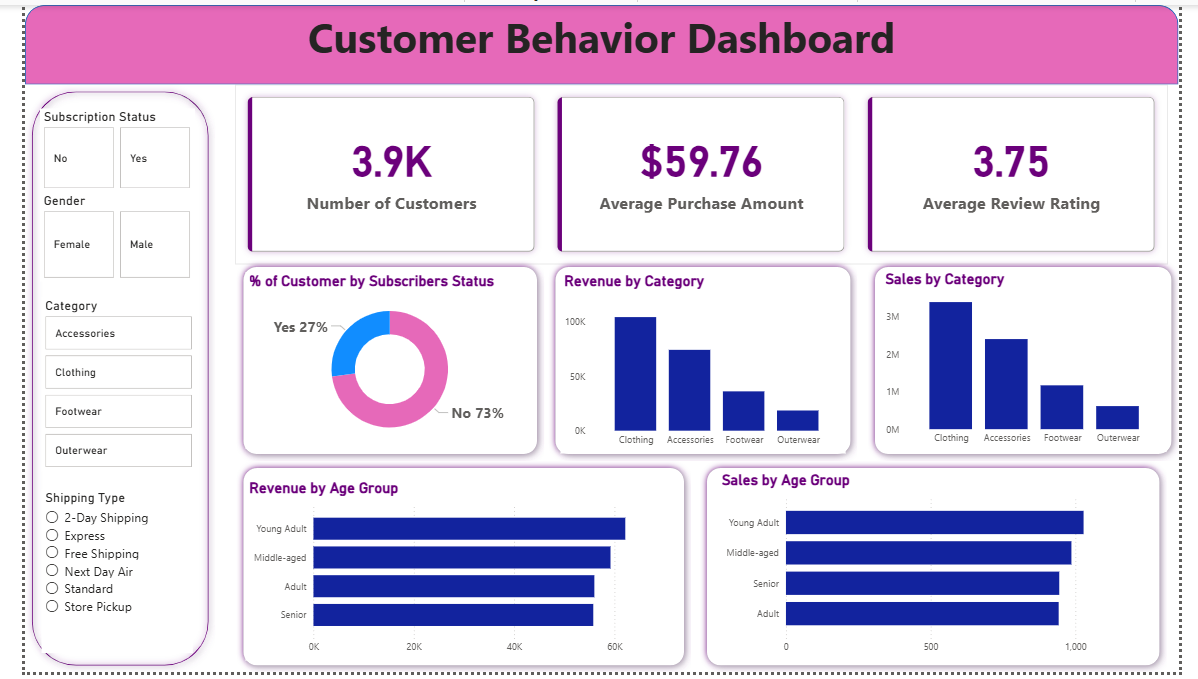

The page's visual inventory and layout, read from the dashboard file:
{"tool":"powerbi","page":{"name":"Page 1","canvas":[1500,867],"ordinal":0},"visuals":[{"type":"cardVisual","fields":{"Data":["public customer.Number of Customers","public customer.Average Purchase Amount","public customer.Average Review Rating"]},"box":[273,103.3,1212.8,234],"z":0},{"type":"shape","box":[0,0,1499.3,103.3],"z":1000},{"type":"textbox","box":[0,0,1499.3,103.3],"z":2000},{"type":"shape","box":[274.9,331.5,399.7,261.3],"z":3000},{"type":"shape","box":[680.5,331.5,401.7,261.3],"z":4000},{"type":"shape","box":[1095.8,331.5,403.6,261.3],"z":5000},{"type":"clusteredColumnChart","title":"Revenue by Category","fields":{"Y":["Sum(public customer.purchase_amount)"],"Category":["public customer.category"]},"box":[696.1,347.1,370.5,235.9],"z":6000},{"type":"clusteredColumnChart","title":"Sales by Category","fields":{"Y":["Sum(public customer.customer_id)"],"Category":["public customer.category"]},"box":[1113.3,345.1,370.5,235.9],"z":7000},{"type":"shape","box":[0,103.3,247.6,764.3],"z":8000},{"type":"advancedSlicerVisual","title":"Subscription Status","fields":{"Values":["public customer.subscription_status"]},"box":[20.3,134.6,201,108.8],"z":9000},{"type":"advancedSlicerVisual","title":"Gender","fields":{"Values":["public customer.gender"]},"box":[20.3,243.4,201,116.2],"z":10000},{"type":"advancedSlicerVisual","title":"Category","fields":{"Values":["public customer.category"]},"box":[21.4,380.2,200.8,226.2],"z":11000},{"type":"listSlicer","title":"Shipping Type","fields":{"Values":["public customer.shipping_type"]},"box":[21.4,629.8,196.9,212.5],"z":12000},{"type":"donutChart","title":"% of Customer by Subscribers Status","fields":{"Category":["public customer.subscription_status"],"Y":["CountNonNull(public customer.customer_id)"]},"box":[286.6,347.1,374.4,230.1],"z":13000},{"type":"shape","box":[877.4,592.7,606.4,274.9],"z":14000},{"type":"clusteredBarChart","title":"Sales by Age Group","fields":{"Y":["CountNonNull(public customer.customer_id)"],"Category":["public customer.age_group"]},"box":[900.8,606.4,559.6,245.7],"z":15000},{"type":"shape","box":[274.9,592.7,590.8,274.9],"z":16000},{"type":"clusteredBarChart","title":"Revenue by Age Group","fields":{"Y":["Sum(public customer.purchase_amount)"],"Category":["public customer.age_group"]},"box":[286.6,616.1,559.6,235.9],"z":17000}]}

Visuals, with their boxes in screenshot pixels (x1, y1, x2, y2), scaled from the page's 1500x867 canvas onto the 1198x679 screenshot:
cardVisual - public customer.Number of Customers x public customer.Average Purchase Amount: bbox=[218, 81, 1187, 264]
shape: bbox=[0, 0, 1197, 81]
textbox: bbox=[0, 0, 1197, 81]
shape: bbox=[220, 260, 539, 464]
shape: bbox=[543, 260, 864, 464]
shape: bbox=[875, 260, 1197, 464]
"Revenue by Category" clusteredColumnChart: bbox=[556, 272, 852, 457]
"Sales by Category" clusteredColumnChart: bbox=[889, 270, 1185, 455]
shape: bbox=[0, 81, 198, 678]
"Subscription Status" advancedSlicerVisual: bbox=[16, 105, 177, 191]
"Gender" advancedSlicerVisual: bbox=[16, 191, 177, 282]
"Category" advancedSlicerVisual: bbox=[17, 298, 177, 475]
"Shipping Type" listSlicer: bbox=[17, 493, 174, 660]
"% of Customer by Subscribers Status" donutChart: bbox=[229, 272, 528, 452]
shape: bbox=[701, 464, 1185, 678]
"Sales by Age Group" clusteredBarChart: bbox=[719, 475, 1166, 667]
shape: bbox=[220, 464, 691, 678]
"Revenue by Age Group" clusteredBarChart: bbox=[229, 483, 676, 667]
